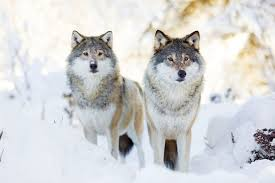wolf: (54, 30, 147, 162), (137, 34, 214, 166)
